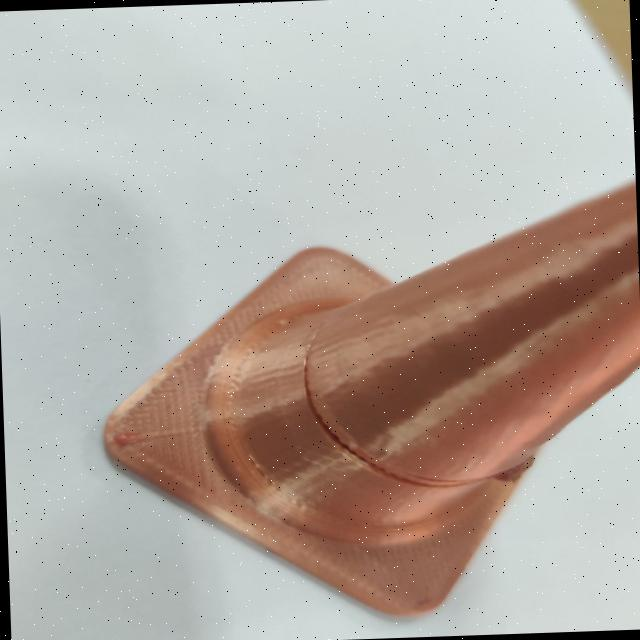cracks: (272, 332, 507, 506)
